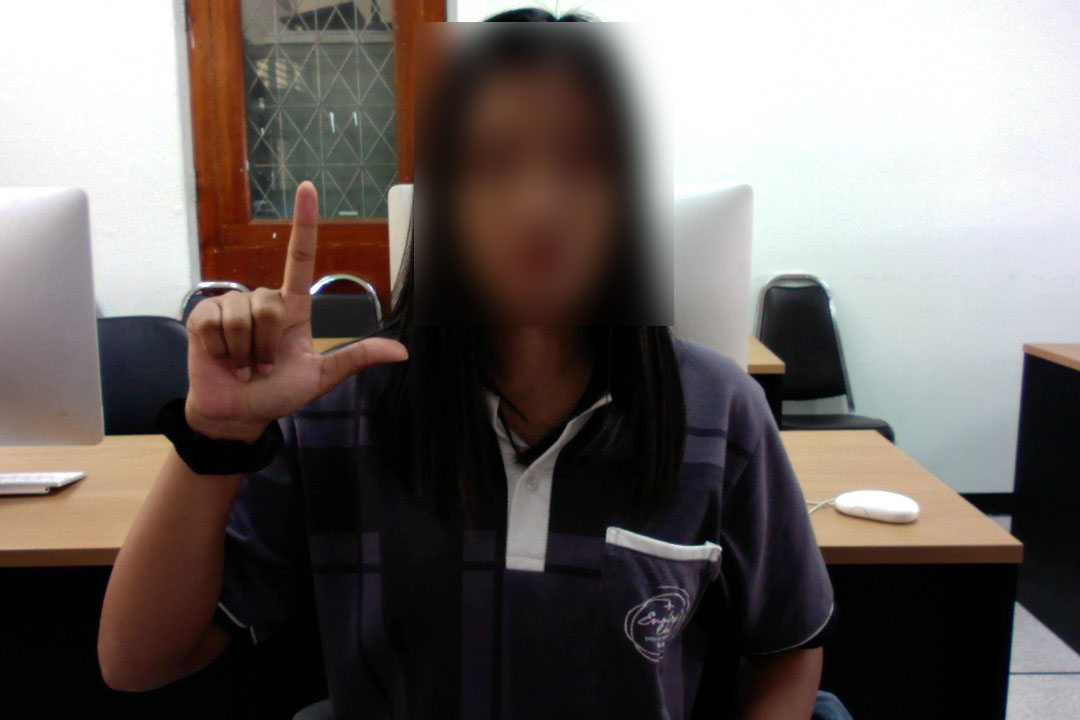lor: (146, 162, 418, 462)
